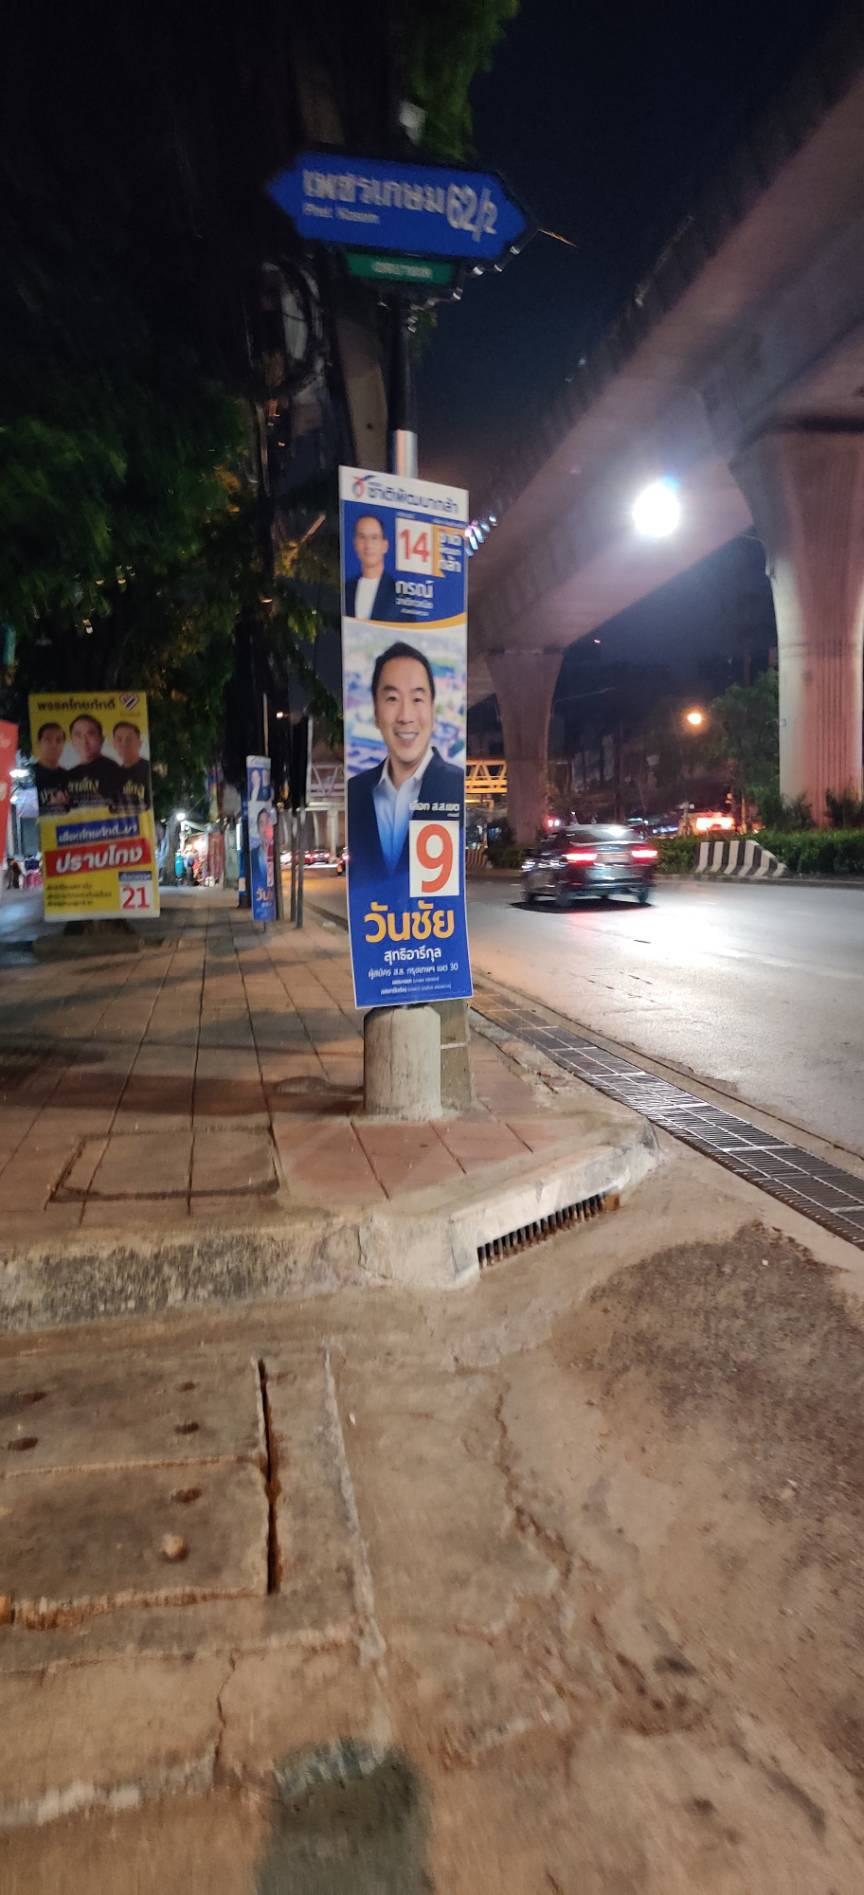Banner: (337, 473, 476, 1012), (23, 692, 163, 928), (243, 749, 280, 921)
